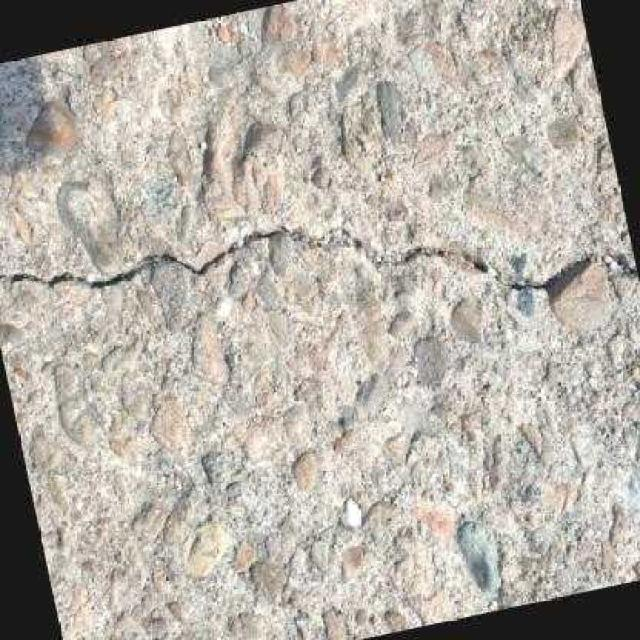D00: (0, 224, 638, 296)
